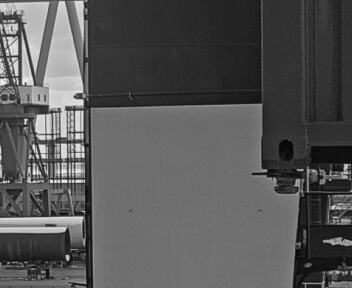twist_lock_1: (182, 139, 209, 161)
